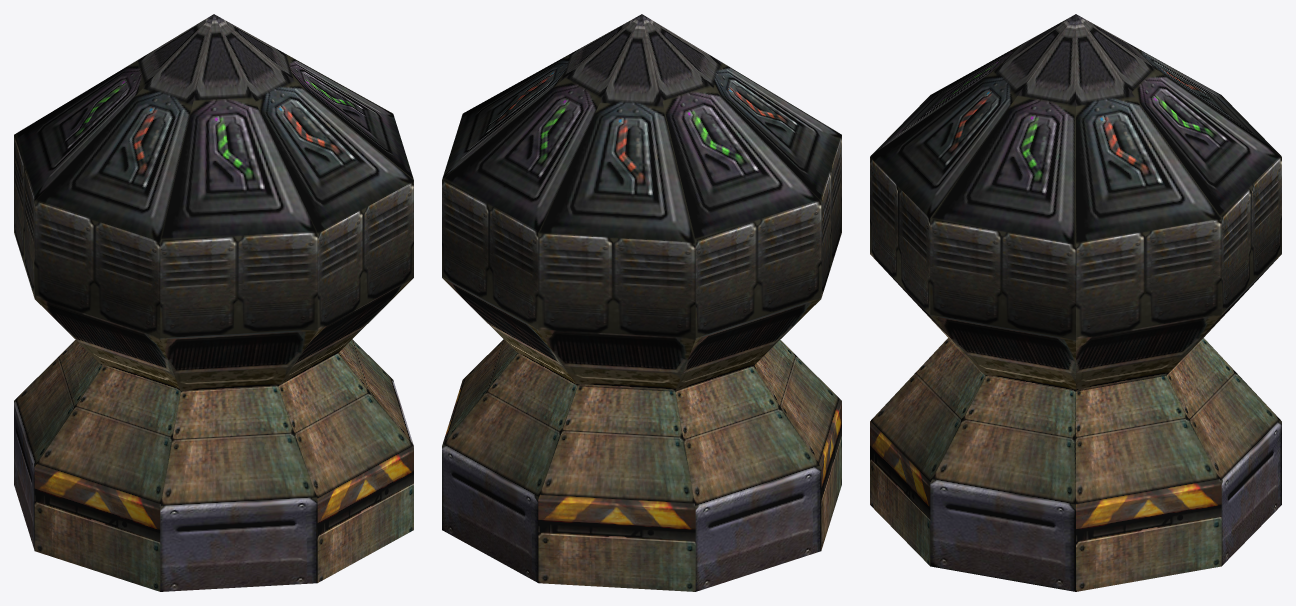
The model's file is bure3.obj.
3 views of the same model, side by side, from view 1: azimuth 30°, elevation 25°; view 2: azimuth 150°, elevation 25°; view 3: azimuth 270°, elevation 25° (orthographic).
Visible parts, largest first — view 1: MSH_cylind; view 2: MSH_cylind; view 3: MSH_cylind.
Part boxes in pixels (<box>): MSH_cylind: <box>14,14,413,591</box>; MSH_cylind: <box>442,14,841,591</box>; MSH_cylind: <box>870,14,1281,591</box>.
Bounding box in the file's own units: 3.57 × 4.7 × 3.57.
Materials: 1 (1 with a texture image).
